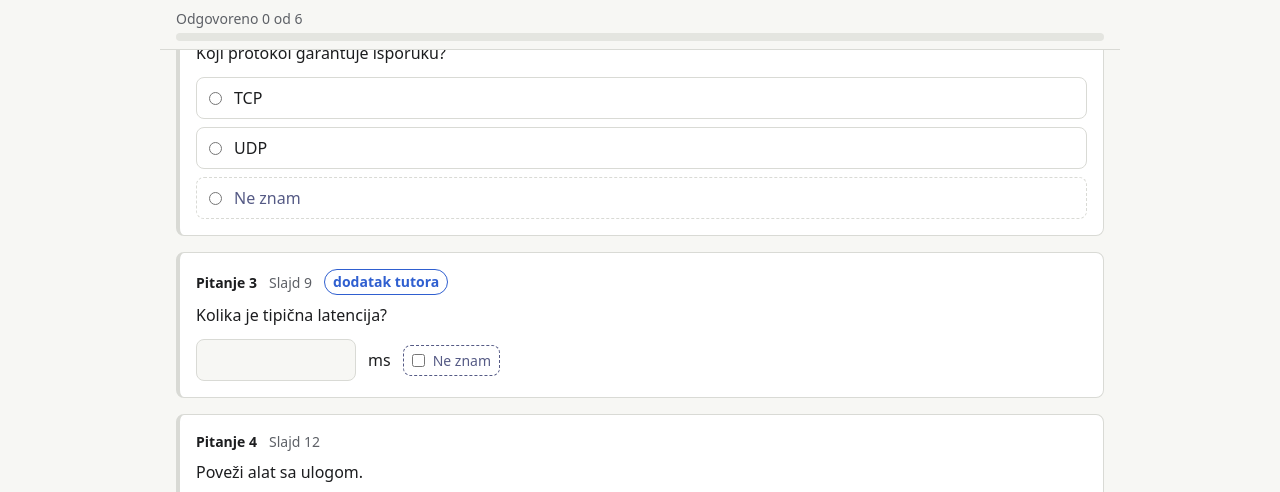
QuizPage player › disables an input when Ne znam is chosen and counts it as answered
(page scrolled)
Type "12" into the field named "Odgovor (broj)" at (276, 360), box [196, 339, 356, 381]
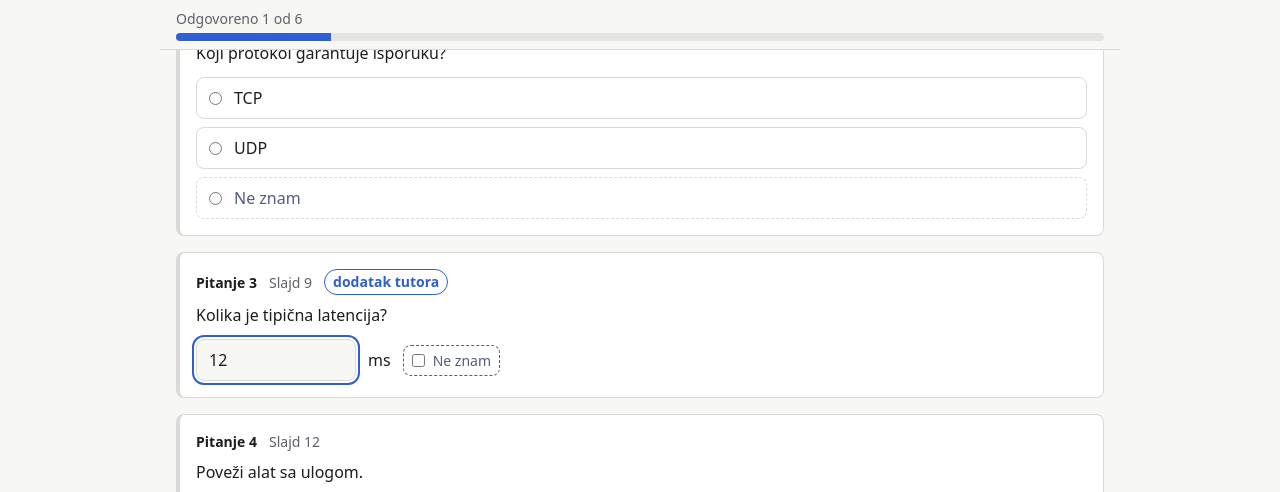
Expected: the progress indicator has attribute aria-valuenow="1", [160, 0, 1120, 50]
Click the checkbox labelled "Ne znam" at (418, 360), box [412, 354, 425, 366]
(page scrolled)
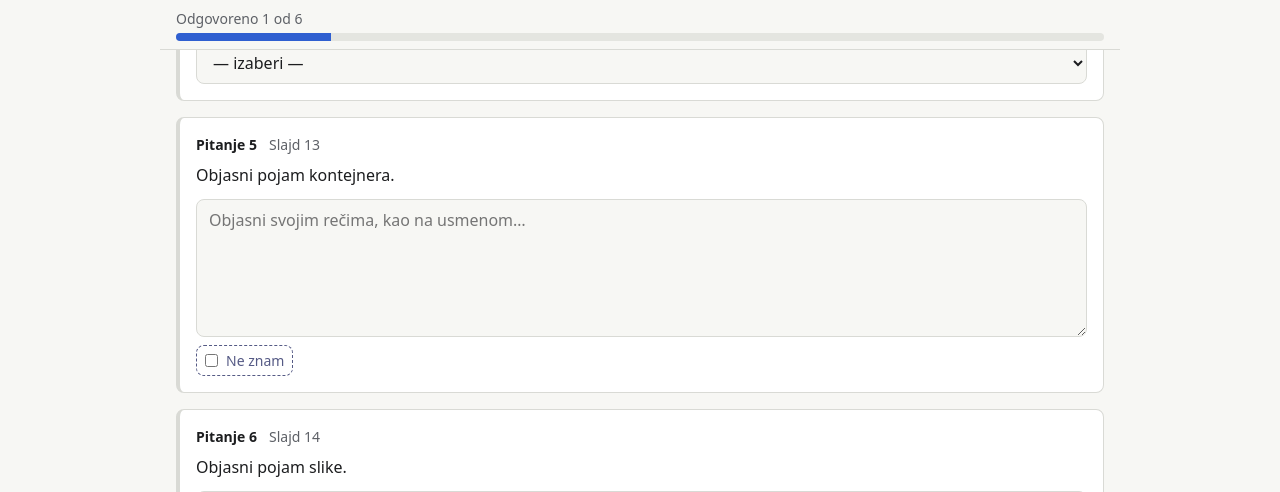
Expected: the progress indicator has attribute aria-valuenow="1", [160, 0, 1120, 50]
Click the checkbox labelled "Ne znam" below "Objasni pojam kontejnera." at (212, 360), box [205, 354, 218, 367]
(page scrolled)
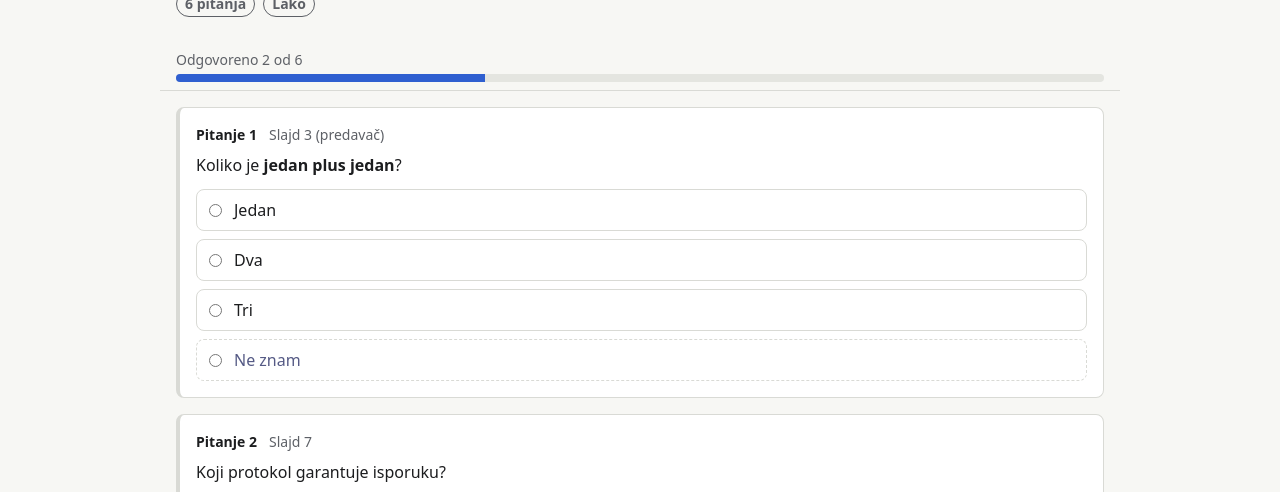
Click the radio button labelled "Ne znam" below "Tri" at (216, 360), box [209, 354, 222, 366]
(page scrolled)
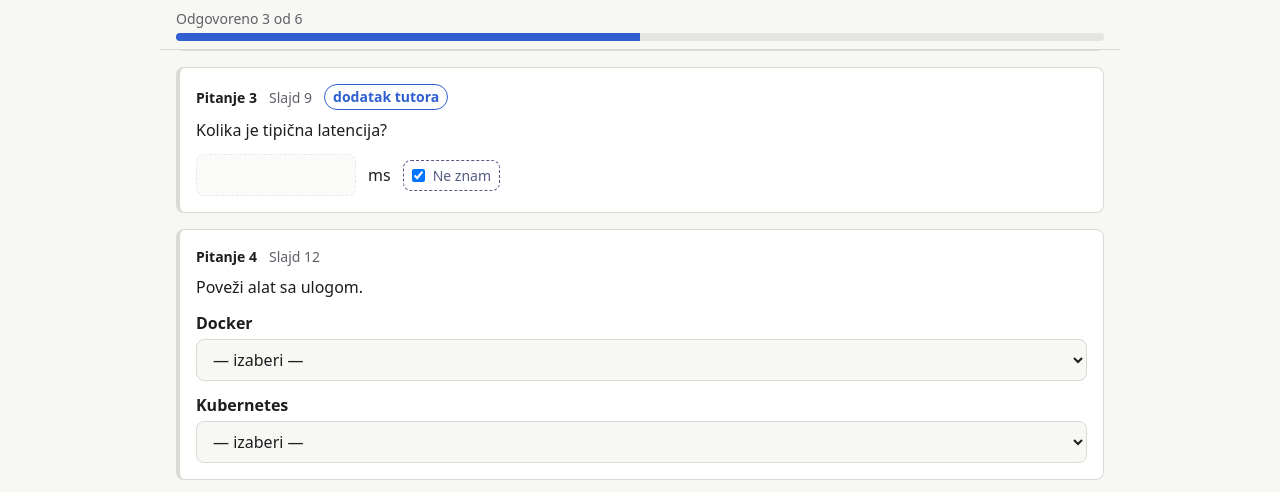
Expected: the progress indicator has attribute aria-valuenow="3", [160, 0, 1120, 50]
// A match question counts only when every row is filled.
Select "Kontejner" in the dropdown labelled "Docker" at (642, 360), box [196, 339, 1087, 381]
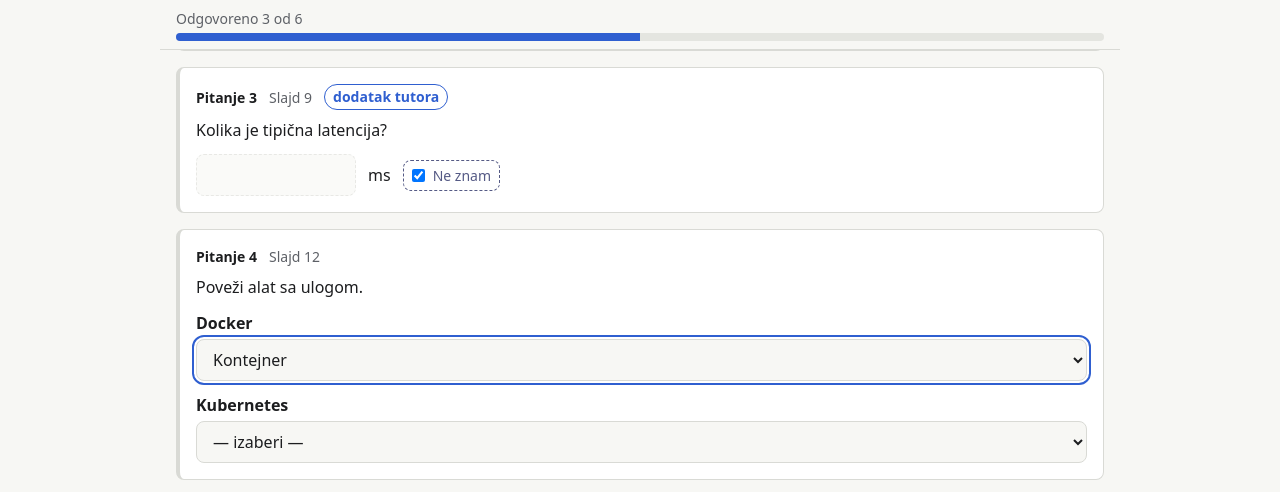
Expected: the progress indicator has attribute aria-valuenow="3", [160, 0, 1120, 50]
Select "Ne znam" in the dropdown labelled "Kubernetes" at (642, 442), box [196, 421, 1087, 463]
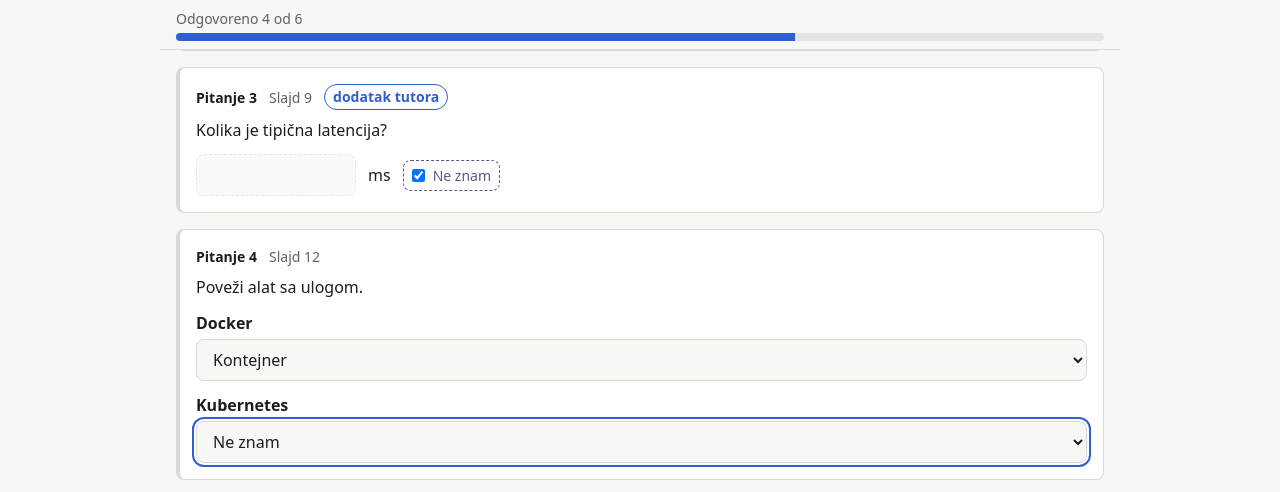
Expected: the text "Odgovoreno 4 od 6" is shown, [176, 9, 302, 28]
